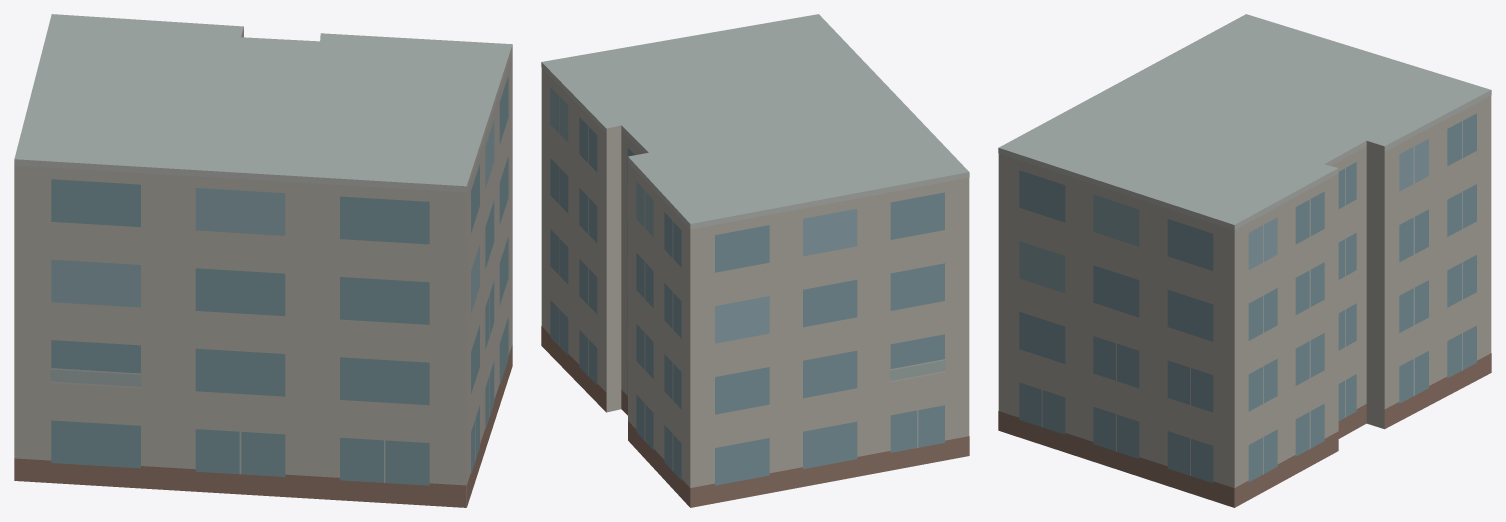
File: survey-upis-32774551.glb
The picture shows the model from 3 angles, left to right: view 1: azimuth 30°, elevation 25°; view 2: azimuth 150°, elevation 25°; view 3: azimuth 270°, elevation 25°; orthographic projection. The views are drawn at different scales.
Visible parts, largest first — view 1: survey-upis-32774551.tmp; view 2: survey-upis-32774551.tmp; view 3: survey-upis-32774551.tmp.
Boxes of the visible parts, bbox=[...] form: survey-upis-32774551.tmp: bbox=[14, 14, 512, 507]; survey-upis-32774551.tmp: bbox=[541, 14, 969, 507]; survey-upis-32774551.tmp: bbox=[998, 14, 1491, 507].
Size of the model in its own units: 20.24 by 12.65 by 19.99.
